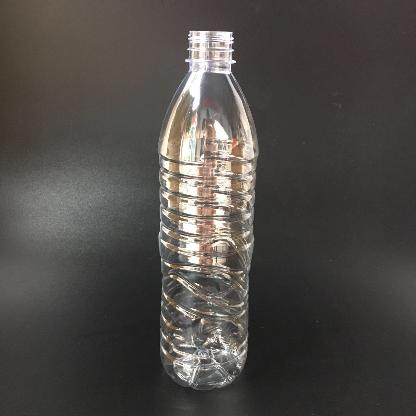Plastic Bottle: (144, 24, 266, 390)
